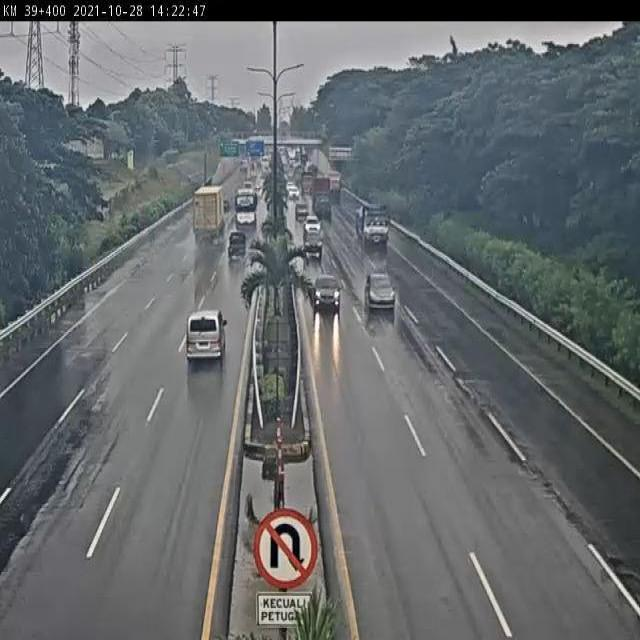car: (188, 307, 224, 365), (364, 272, 396, 320), (312, 271, 344, 317), (302, 230, 328, 262), (227, 231, 249, 261)
truck-l-: (353, 201, 393, 252)
truck-xl-: (192, 187, 228, 249)
